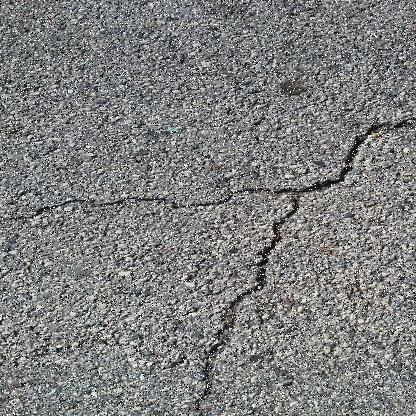Cracks: (187, 89, 416, 416)
